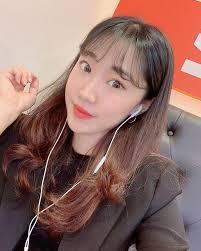earphone: (130, 104, 145, 116)
